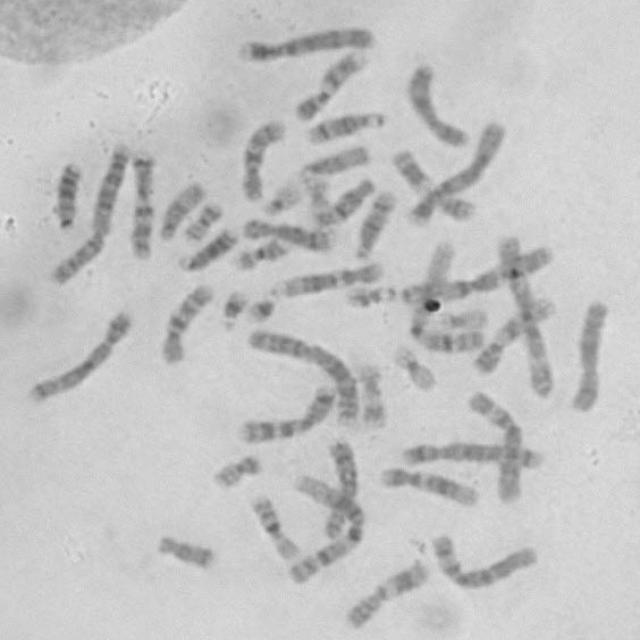A1: (282, 468, 368, 586), (405, 240, 491, 356)
A2: (43, 138, 133, 286), (243, 324, 361, 427)
A3: (489, 231, 556, 399), (397, 240, 556, 306)
B4: (403, 115, 509, 228), (232, 20, 378, 64)
B5: (23, 304, 135, 404), (395, 436, 549, 470)
C10: (154, 278, 216, 366), (235, 113, 288, 203)
C11: (387, 142, 479, 222), (339, 555, 431, 631)
C12: (376, 460, 482, 509), (272, 256, 387, 299)
C6: (426, 527, 541, 591), (463, 386, 524, 504)
C7: (232, 378, 337, 445), (124, 147, 159, 261)
C8: (319, 434, 362, 541), (238, 213, 336, 253)
C9: (468, 291, 560, 376), (288, 44, 370, 122)
D13: (172, 222, 240, 274), (49, 157, 85, 230)
D14: (350, 185, 400, 261), (301, 105, 387, 146)
D15: (153, 177, 207, 243), (295, 139, 371, 179)
E16: (244, 489, 302, 562), (229, 232, 292, 272)
E17: (353, 359, 389, 430), (303, 173, 335, 228)
E18: (151, 528, 219, 572), (321, 172, 377, 224)
F19: (388, 340, 439, 393), (426, 304, 489, 332)
F20: (208, 449, 266, 491), (178, 197, 226, 244)
G21: (216, 284, 250, 332), (242, 284, 280, 325)
G22: (342, 280, 398, 310), (258, 181, 303, 217)
X: (403, 58, 473, 149), (565, 294, 612, 414)
